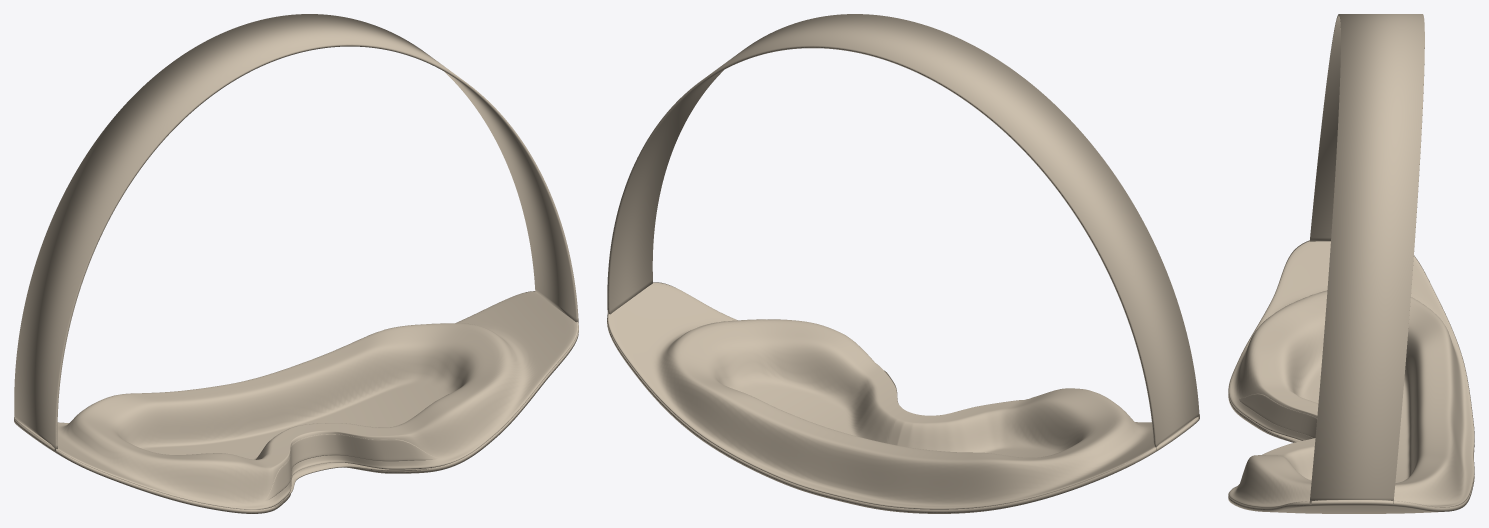
File: Contour-B-oat.glb
The picture shows the model from 3 angles, left to right: view 1: azimuth 30°, elevation 25°; view 2: azimuth 150°, elevation 25°; view 3: azimuth 270°, elevation 25°; orthographic projection. The views are drawn at different scales.
Parts seen in each view (by area): view 1: 02_Integrated_recessed_eye_relief, 05_Wide_soft_band_no_hard_buckle, 07_Thin_continuous_light_seal_lip, 01_Curved_fabric_envelope; view 2: 02_Integrated_recessed_eye_relief, 05_Wide_soft_band_no_hard_buckle, 01_Curved_fabric_envelope; view 3: 05_Wide_soft_band_no_hard_buckle, 02_Integrated_recessed_eye_relief, 01_Curved_fabric_envelope, 07_Thin_continuous_light_seal_lip.
Boxes of the visible parts, x1,y1,x2,y2 form: 02_Integrated_recessed_eye_relief: (14, 291, 578, 509); 05_Wide_soft_band_no_hard_buckle: (14, 14, 578, 451); 07_Thin_continuous_light_seal_lip: (265, 434, 437, 500); 01_Curved_fabric_envelope: (14, 329, 578, 513); 02_Integrated_recessed_eye_relief: (607, 282, 1199, 509); 05_Wide_soft_band_no_hard_buckle: (607, 14, 1199, 450); 01_Curved_fabric_envelope: (607, 320, 1199, 513); 05_Wide_soft_band_no_hard_buckle: (1309, 14, 1424, 504); 02_Integrated_recessed_eye_relief: (1228, 240, 1474, 507); 01_Curved_fabric_envelope: (1228, 394, 1474, 513); 07_Thin_continuous_light_seal_lip: (1239, 393, 1317, 438).
Bounding box in the file's own units: 0.24 × 0.179 × 0.094.
